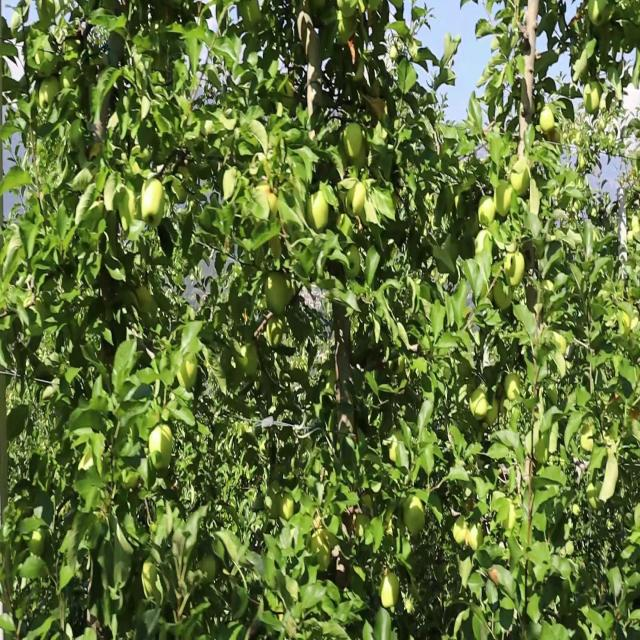apple: (140, 177, 165, 224), (268, 270, 294, 315), (148, 426, 175, 468), (504, 248, 526, 290), (308, 191, 329, 233), (404, 497, 427, 535), (176, 355, 199, 391), (344, 127, 366, 162), (348, 184, 368, 219), (512, 163, 531, 199), (588, 0, 611, 27), (260, 184, 280, 215), (496, 184, 513, 220), (492, 284, 513, 313), (384, 575, 400, 612), (300, 14, 315, 50), (480, 199, 496, 228), (472, 391, 488, 420), (452, 519, 468, 548), (584, 85, 600, 114), (540, 106, 555, 133), (580, 426, 595, 453), (468, 526, 484, 551), (620, 305, 634, 332), (488, 398, 500, 427), (372, 99, 387, 121), (284, 497, 296, 521), (508, 376, 520, 400), (348, 42, 359, 68), (144, 568, 153, 596), (488, 568, 500, 587), (80, 455, 93, 469), (548, 127, 560, 142), (560, 334, 568, 356), (632, 220, 640, 240), (552, 127, 561, 142), (392, 440, 398, 462), (580, 156, 587, 171)
